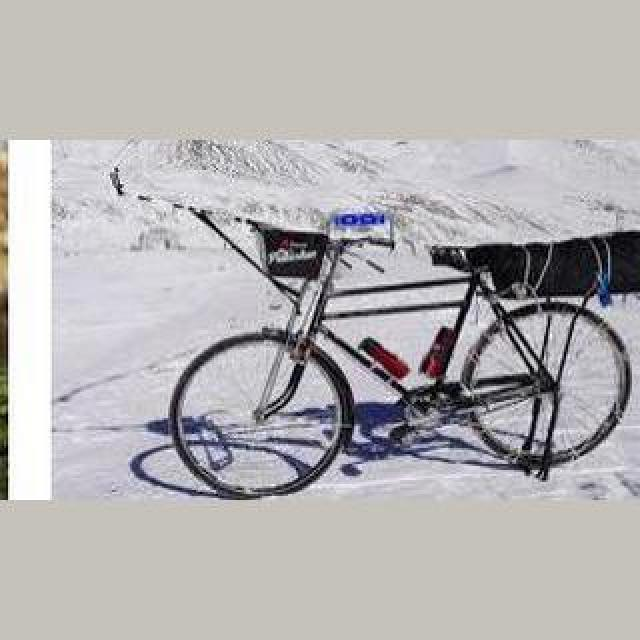Person: (168, 216, 634, 498)
